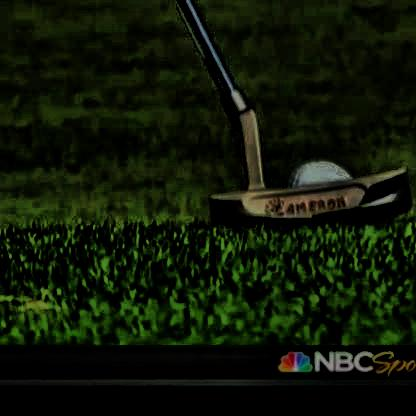golfball: (280, 172, 348, 203)
